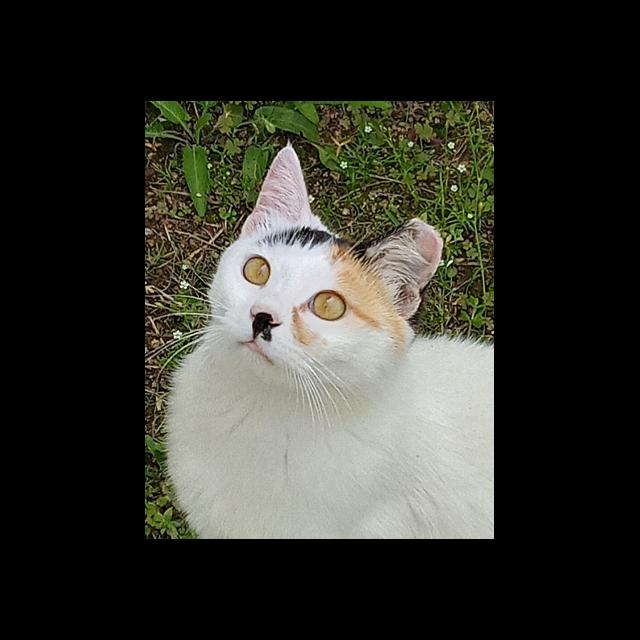animals: (209, 140, 445, 415)
